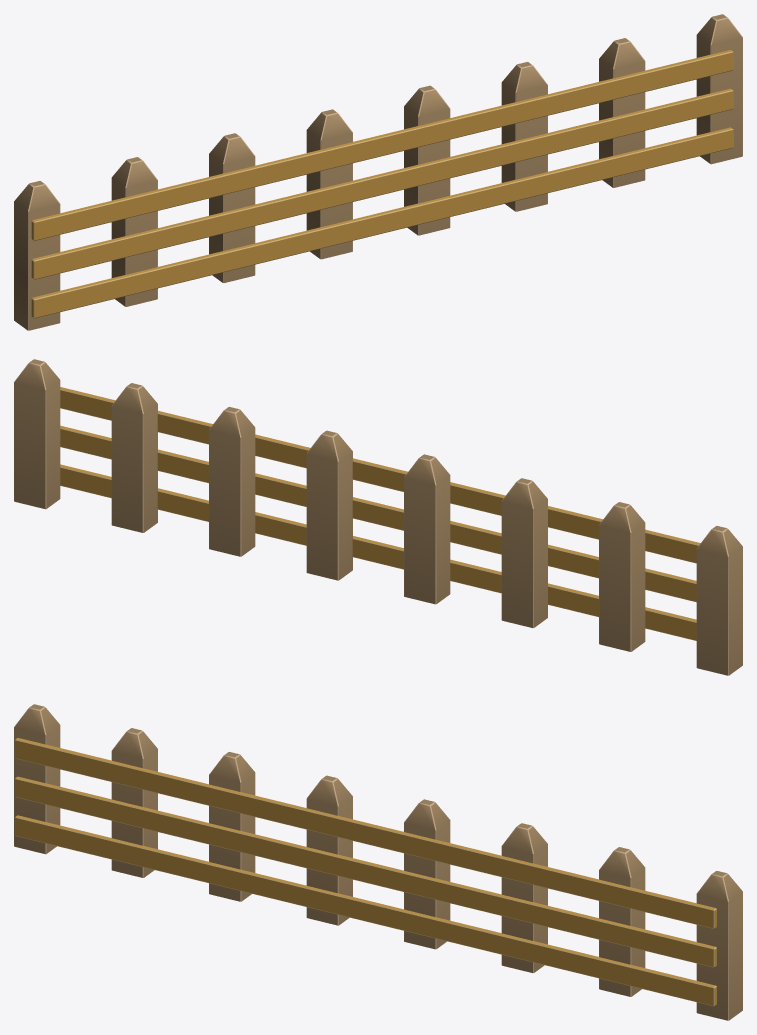
The model's file is fences.fbx.
3 renders of one model, top to bottom at view 1: azimuth 30°, elevation 25°; view 2: azimuth 150°, elevation 25°; view 3: azimuth 330°, elevation 25°, orthographic.
Parts seen in each view (by area): view 1: Cube.024; view 2: Cube.024; view 3: Cube.024.
Boxes of the visible parts, x1,y1,x2,y2 form: Cube.024: (14,14,742,330); Cube.024: (14,359,742,675); Cube.024: (14,704,742,1020).
Size of the model in its own units: 1535 by 283 by 63.41.
